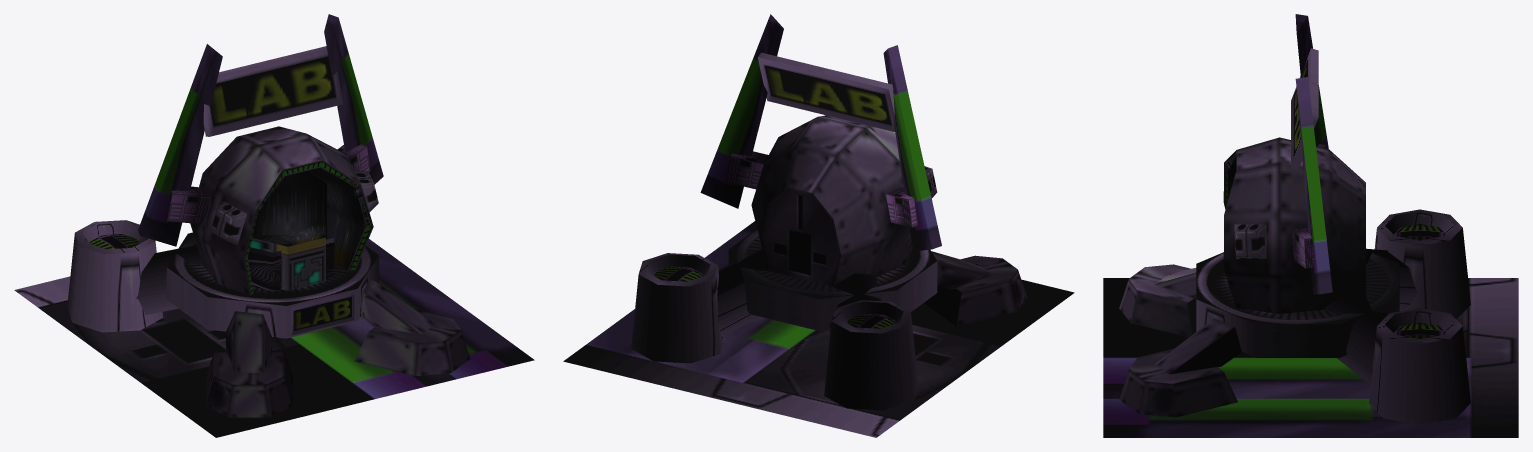
Rendered from datan_common_gmc11_ff1201d9.obj.
3 renders of one model, left to right at view 1: azimuth 30°, elevation 25°; view 2: azimuth 150°, elevation 25°; view 3: azimuth 270°, elevation 25°, orthographic. The views are drawn at different scales.
Visible parts, largest first — view 1: datan_common_gmc11_ff1201d9_mesh00, datan_common_gmc11_ff1201d9_mesh01, datan_common_gmc11_ff1201d9_mesh03, datan_common_gmc11_ff1201d9_mesh02; view 2: datan_common_gmc11_ff1201d9_mesh00, datan_common_gmc11_ff1201d9_mesh01; view 3: datan_common_gmc11_ff1201d9_mesh00, datan_common_gmc11_ff1201d9_mesh01.
Boxes of the visible parts, left/top/right/bottom form: datan_common_gmc11_ff1201d9_mesh00: left=67, top=14, right=470, bottom=417; datan_common_gmc11_ff1201d9_mesh01: left=14, top=239, right=534, bottom=437; datan_common_gmc11_ff1201d9_mesh03: left=211, top=238, right=334, bottom=291; datan_common_gmc11_ff1201d9_mesh02: left=249, top=170, right=372, bottom=248; datan_common_gmc11_ff1201d9_mesh00: left=631, top=14, right=1027, bottom=410; datan_common_gmc11_ff1201d9_mesh01: left=563, top=221, right=1074, bottom=437; datan_common_gmc11_ff1201d9_mesh00: left=1119, top=14, right=1470, bottom=424; datan_common_gmc11_ff1201d9_mesh01: left=1103, top=278, right=1518, bottom=437.
Size of the model in its own units: 18.34 by 16.49 by 20.12.
Materials: 1 (1 with a texture image).
